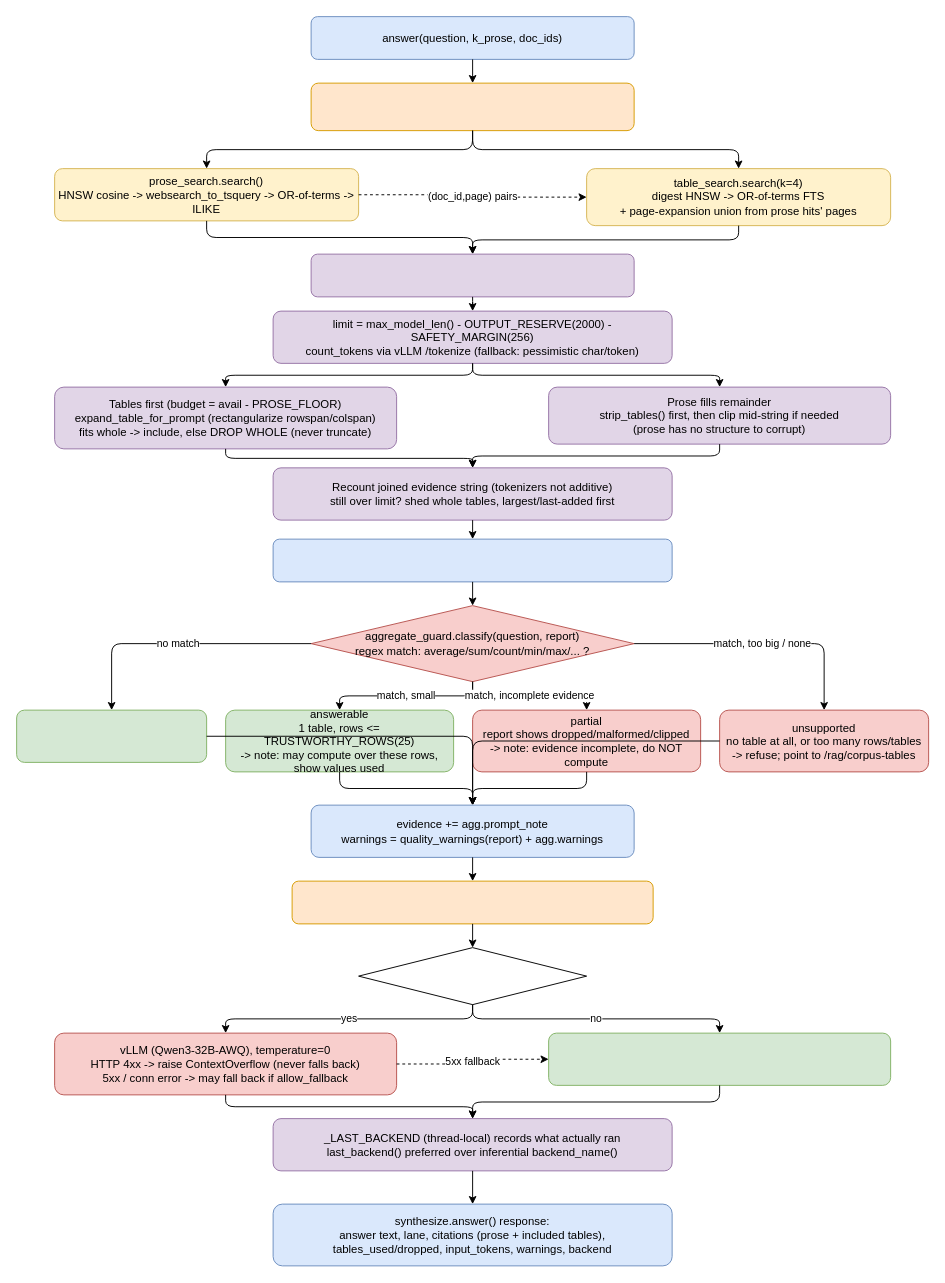
The diagram is 945 pixels wide and 1283 high, and some of its shapes have lost their labels. Here are the shapes that lost their labels. From the top down, the centre of each, then its label:
At (x=472, y=106): "router.route() -> lane (prose / tables / both; default both)".
At (x=472, y=275): "prompt_budget.assemble_evidence()".
At (x=472, y=560): "report: included[], dropped[], malformed[], prose_clipped, limit, input_tokens".
At (x=111, y=735): "not_aggregate no prompt_note, no warnings".
At (x=472, y=902): "llm_client.complete(evidence, system, max_tokens=OUTPUT_RESERVE)".
At (x=472, y=976): "RAG_LLM_URL set?".
At (x=719, y=1058): "Local fallback: Qwen2.5-VL (run_plain_text_inference, resident in OCR process)".
